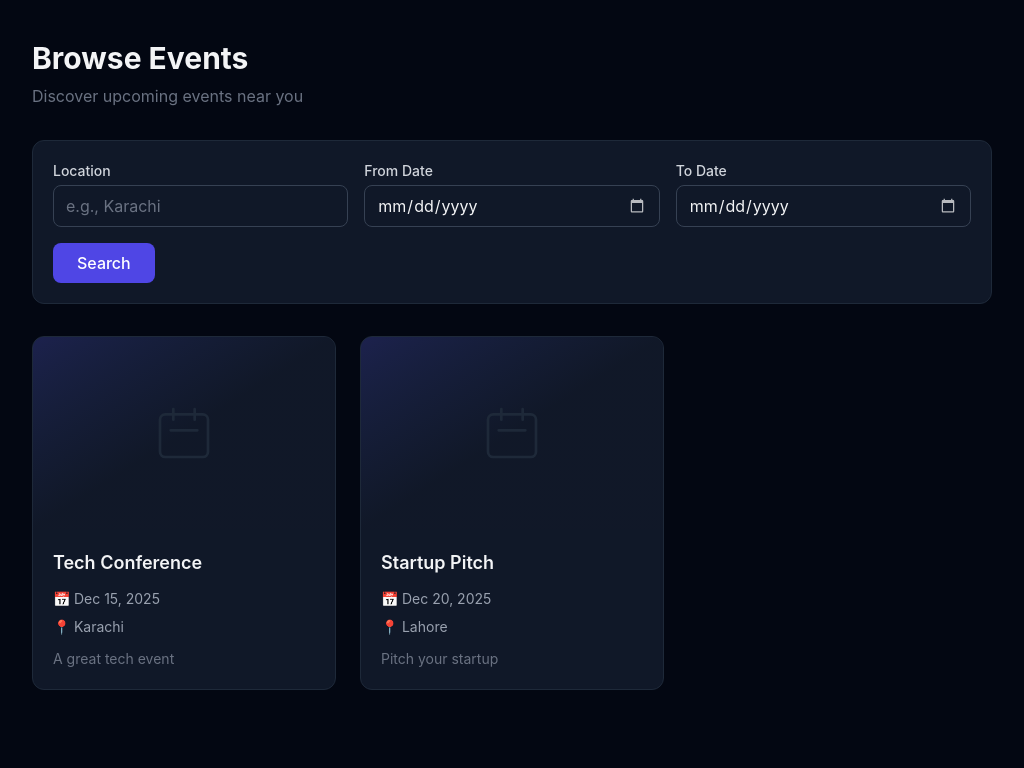
Test case: Events Page › shows result count when filters are active
This screenshot has width=1024, height=768.
Type "karachi" into the field labelled "Location".
click(201, 206); type("karachi")  # box x1=53 y1=185 x2=348 y2=227
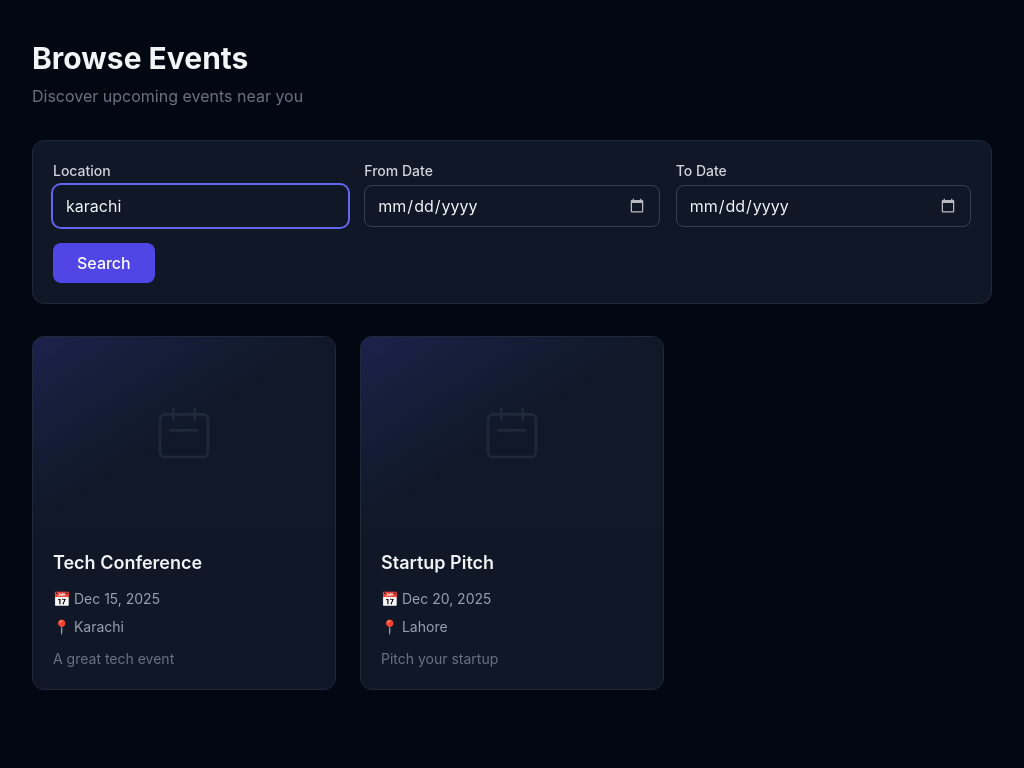
Click the button "Search".
click(104, 263)  # box x1=53 y1=243 x2=155 y2=283
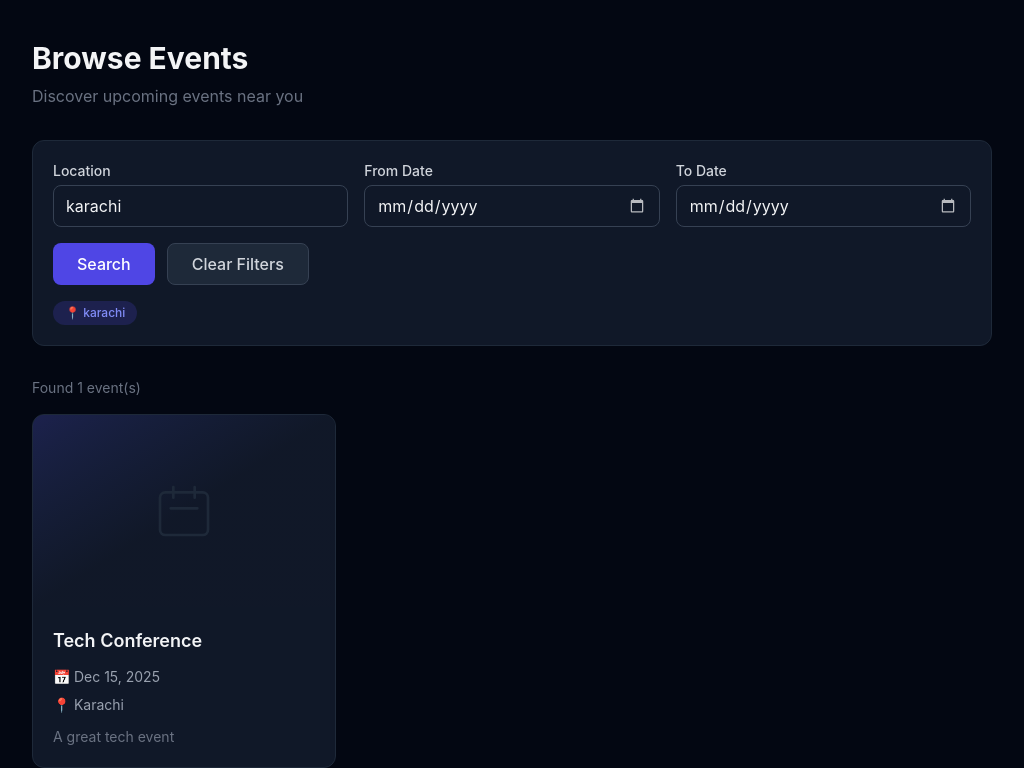
Now the text "Found 1 event(s)" is shown, box x1=32 y1=379 x2=141 y2=396
